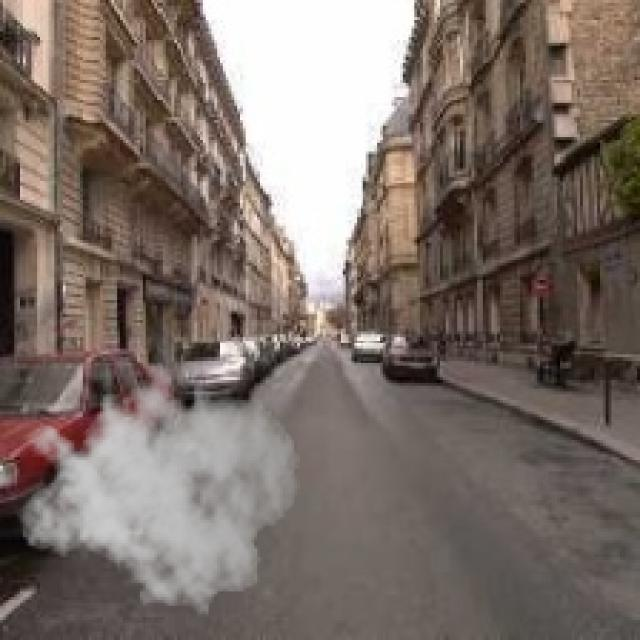Smoke: (17, 351, 300, 623)
